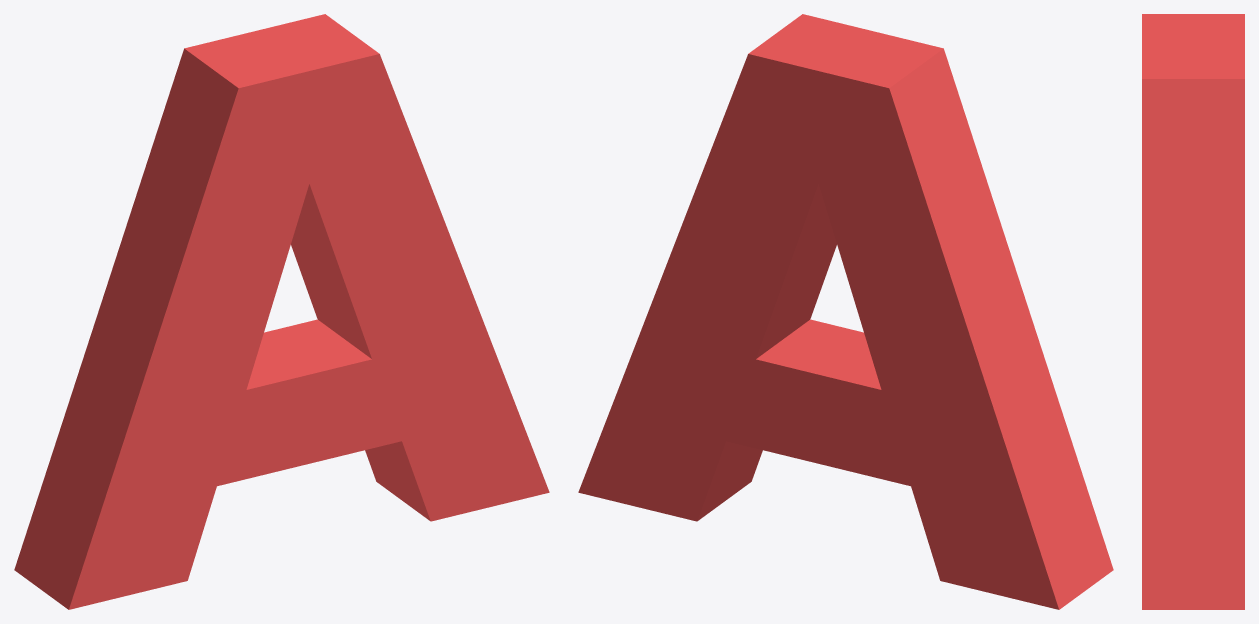
File: huruf_besar_a.glb
The picture shows the model from 3 angles, left to right: view 1: azimuth 30°, elevation 25°; view 2: azimuth 150°, elevation 25°; view 3: azimuth 270°, elevation 25°; orthographic projection. The views are drawn at different scales.
Parts seen in each view (by area): view 1: geometry_0; view 2: geometry_0; view 3: geometry_0.
Part boxes in pixels (box(x1,y1,x2,y2)): geometry_0: box(14, 14, 549, 609); geometry_0: box(578, 14, 1113, 609); geometry_0: box(1142, 14, 1244, 609).
Size of the model in its own units: 7.64 by 7.29 by 1.5.
